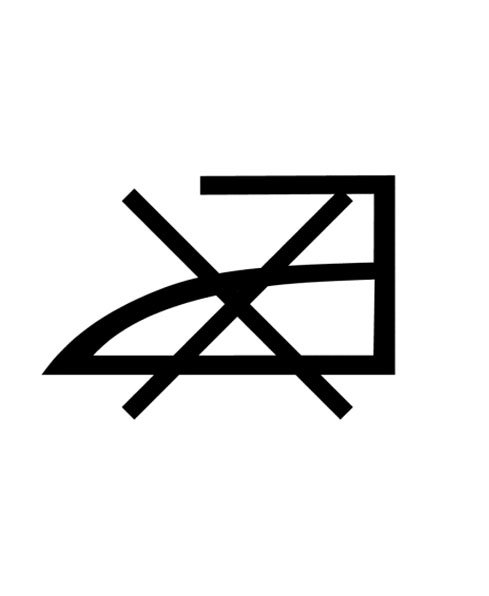do_not_iron: (40, 174, 398, 418)
